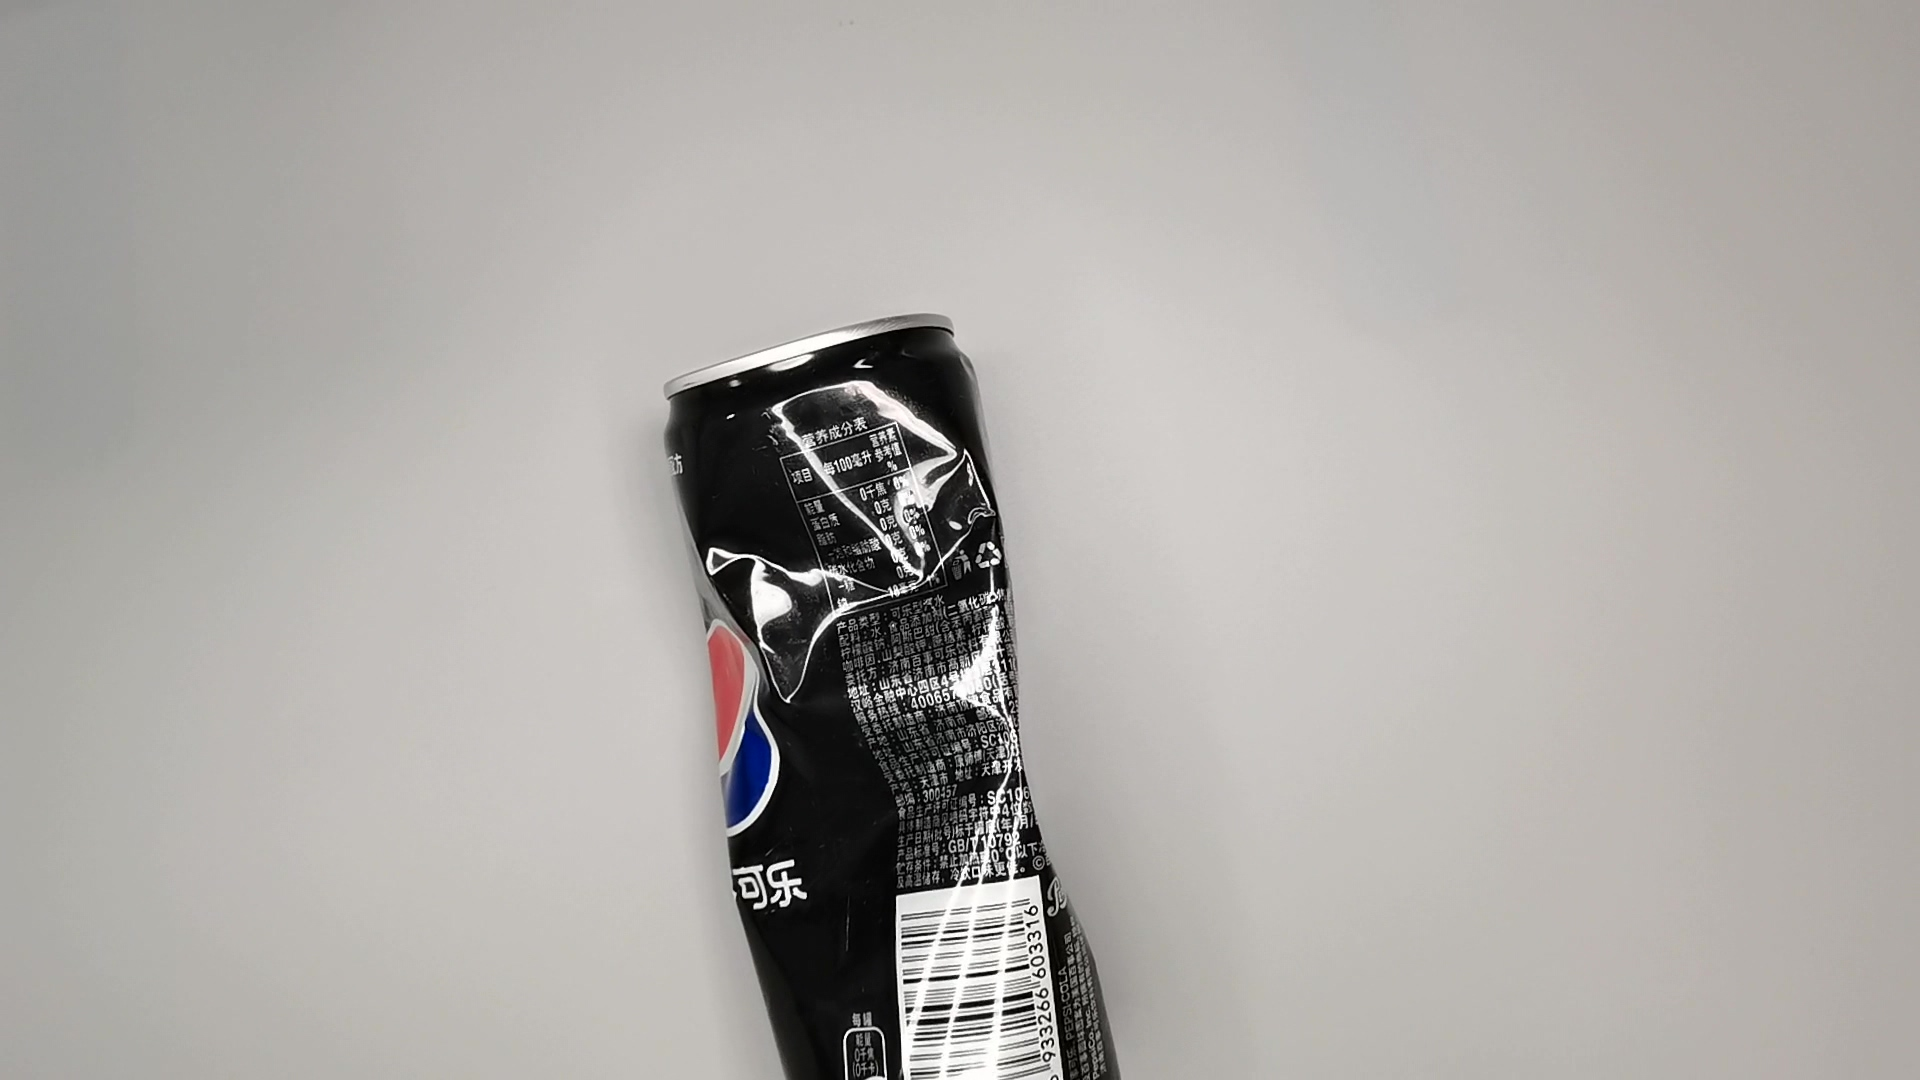can: (647, 295, 1139, 1080)
